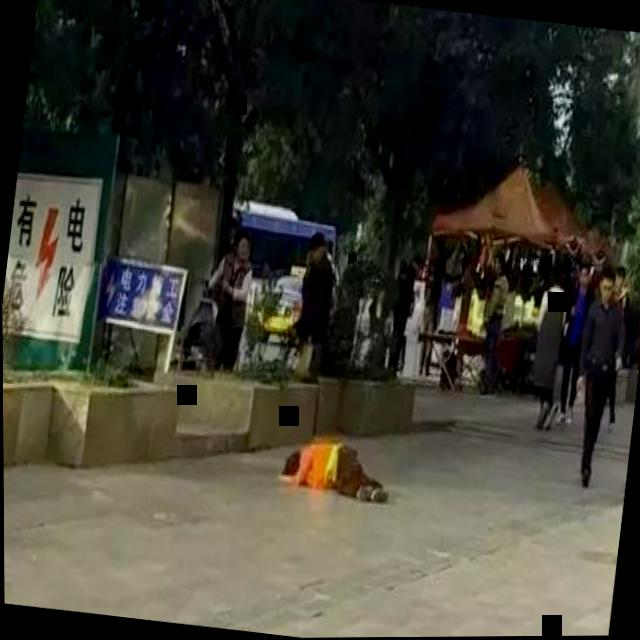Fall-Detected: (264, 417, 397, 511)
